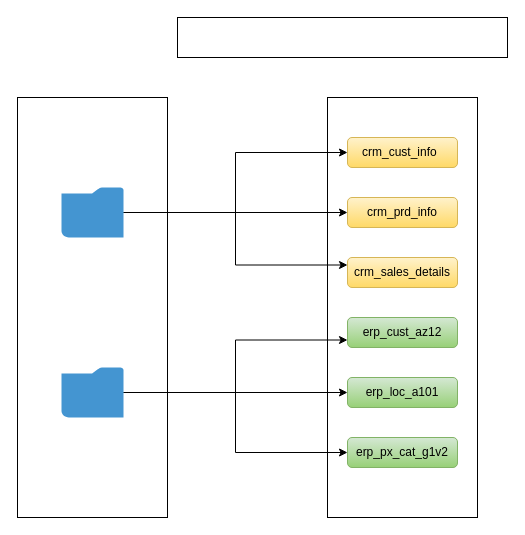
This 525x535 diagram has some shape labels left out. Each missing label, with the centre of its shape:
"CRM" goes at (x=92, y=212).
"Data flow diagram" goes at (x=342, y=37).
"ERP" goes at (x=92, y=392).
